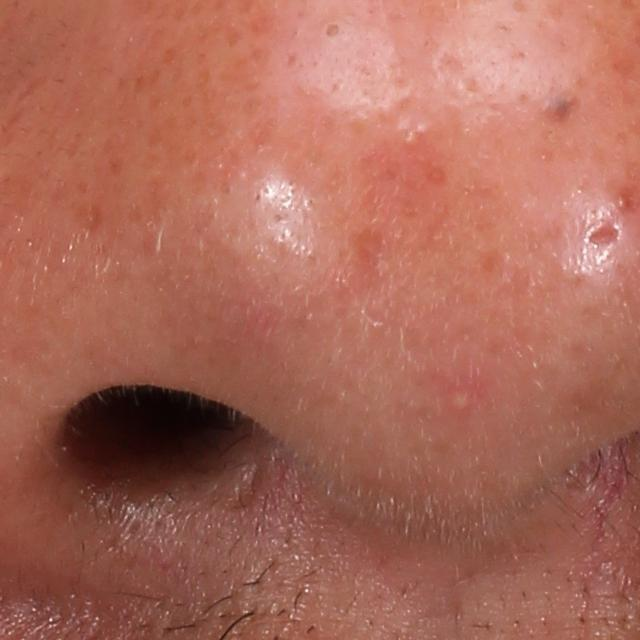atrophic_scar: (350, 225, 385, 295), (580, 216, 623, 250)
comedo: (318, 16, 350, 44)
nevus: (540, 86, 575, 126)
pustule: (446, 384, 480, 414)
